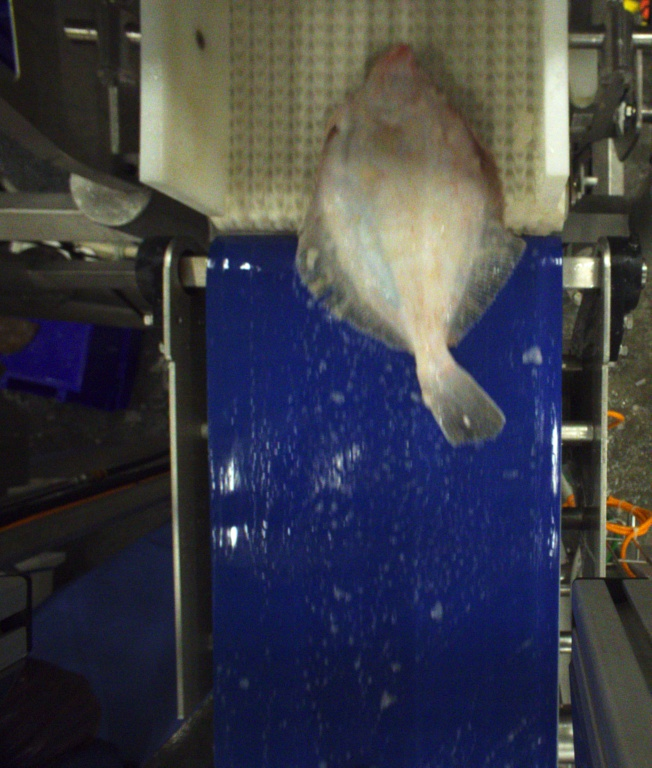PLE: (292, 40, 529, 448)
